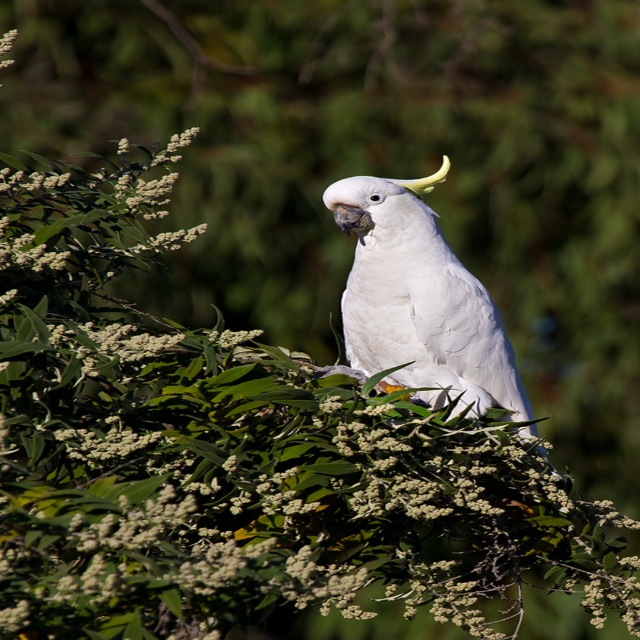Parrot: (315, 156, 549, 457)
